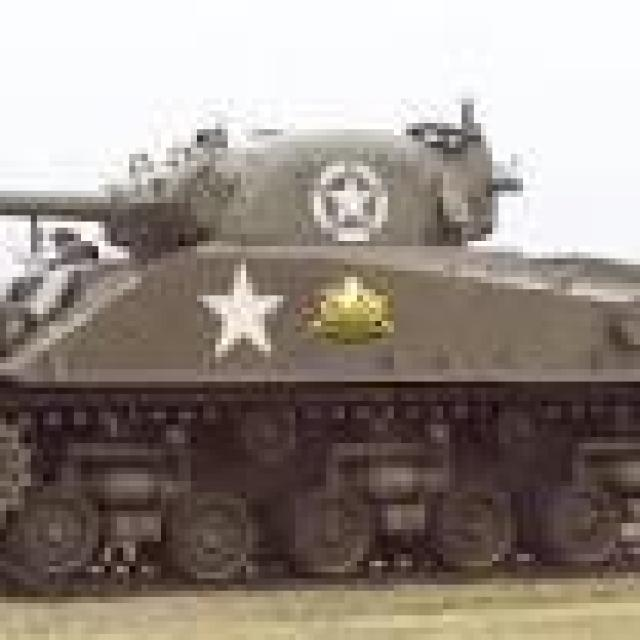Tanks: (0, 89, 634, 600)
